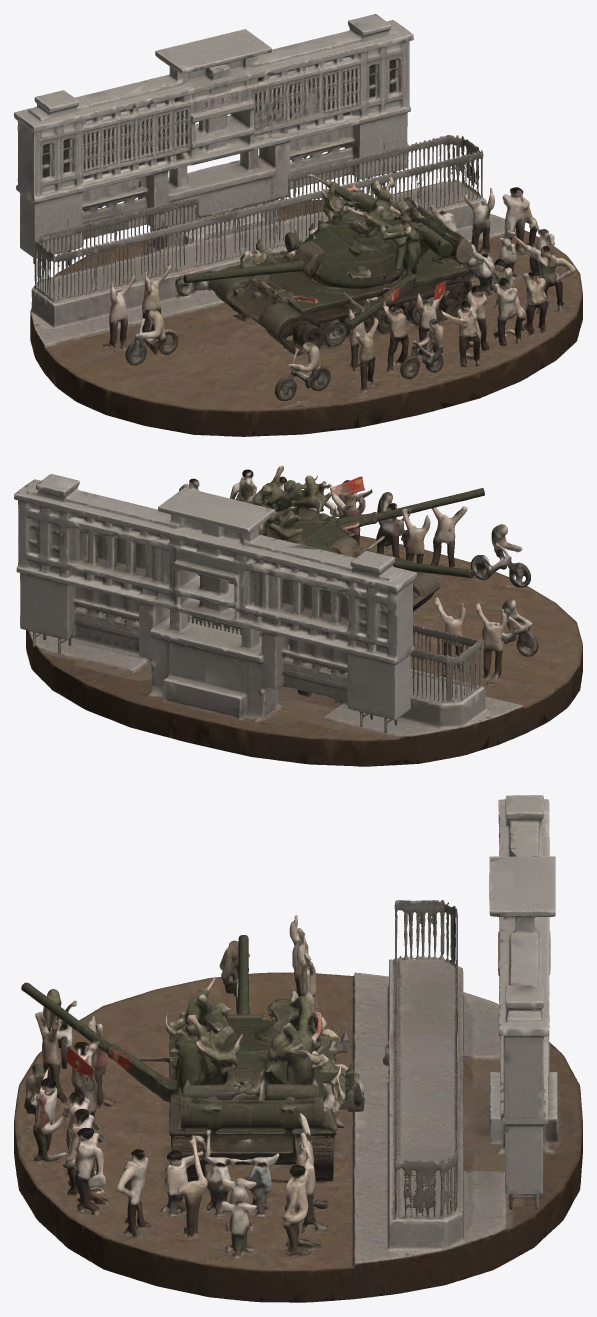
File: chien_thang_van_tuong.glb
3 views of the same model, one above another, from view 1: azimuth 30°, elevation 25°; view 2: azimuth 150°, elevation 25°; view 3: azimuth 270°, elevation 25° (orthographic). The views are drawn at different scales.
Size of the model in its own units: 1.89 by 0.792 by 1.52.
Materials: 1 (1 with a texture image).
